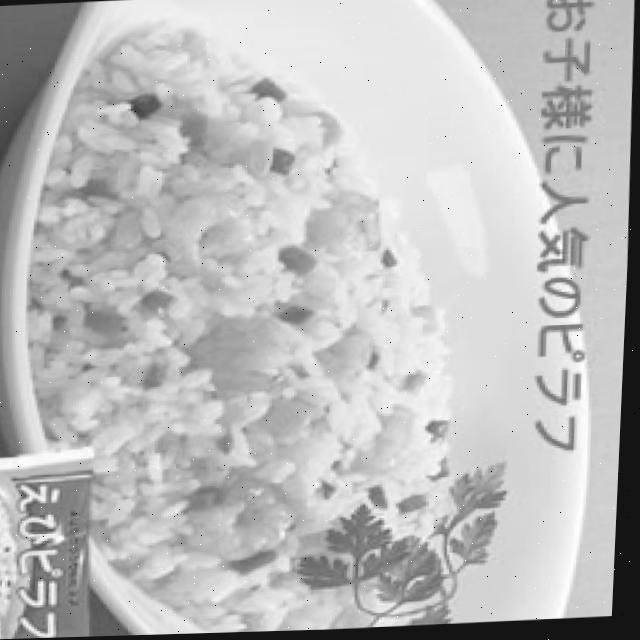米饭主食: (96, 0, 543, 637)
